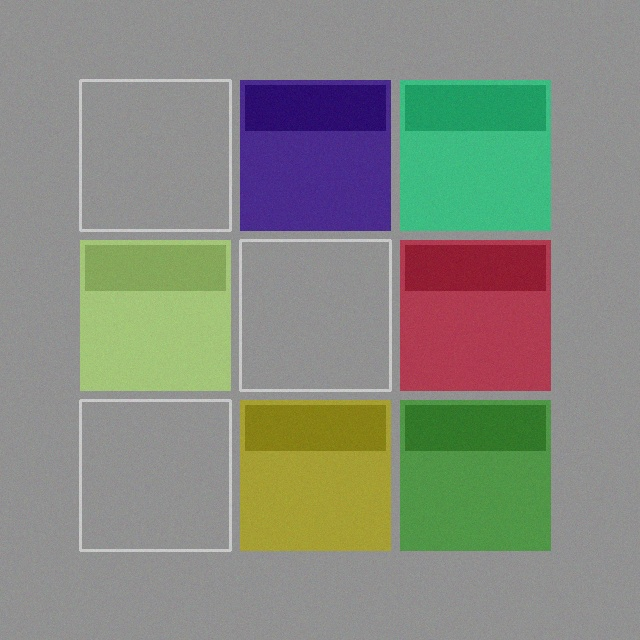space-empty: (80, 80, 230, 230), (240, 240, 390, 390), (80, 400, 230, 550)
space-occupied: (240, 80, 390, 230), (400, 80, 550, 230), (80, 240, 230, 390), (400, 240, 550, 390), (240, 400, 390, 550), (400, 400, 550, 550)
